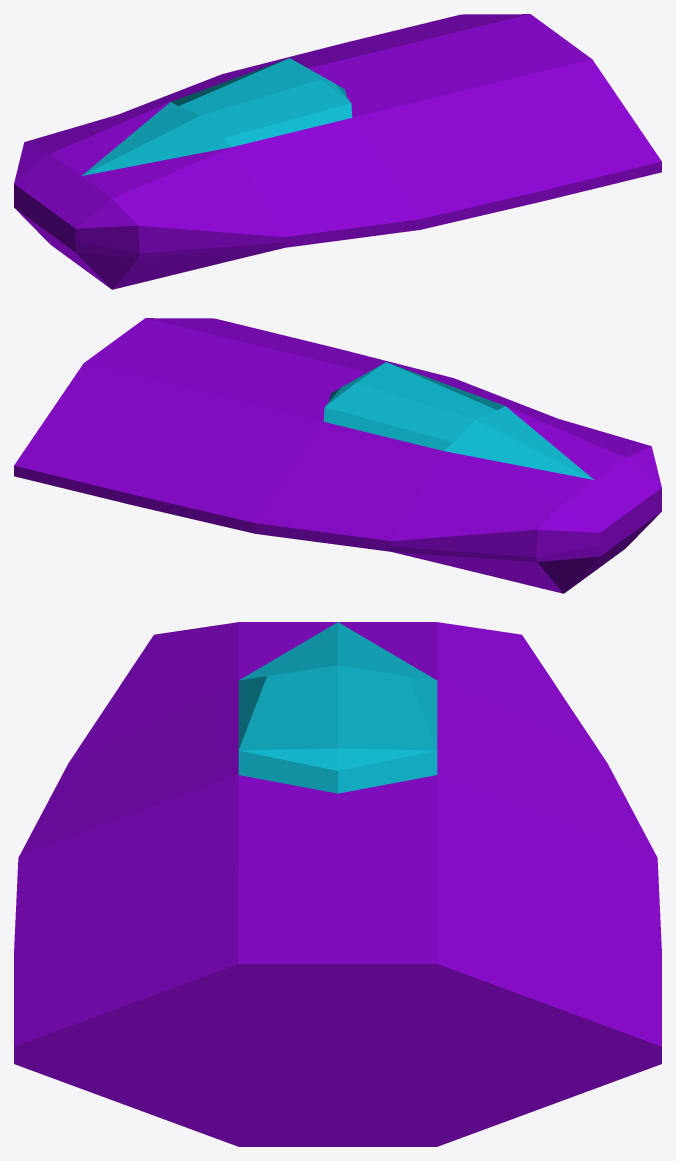
The model's file is playerspaceship.fbx.
3 renders of one model, top to bottom at view 1: azimuth 30°, elevation 25°; view 2: azimuth 150°, elevation 25°; view 3: azimuth 270°, elevation 25°, orthographic. The views are drawn at different scales.
Parts seen in each view (by area): view 1: Spaceship; view 2: Spaceship; view 3: Spaceship.
Boxes of the visible parts, x1=… form: Spaceship: x1=14, y1=14, x2=661, y2=289; Spaceship: x1=14, y1=318, x2=661, y2=593; Spaceship: x1=14, y1=622, x2=661, y2=1146.
Size of the model in its own units: 484 by 116 by 326.
